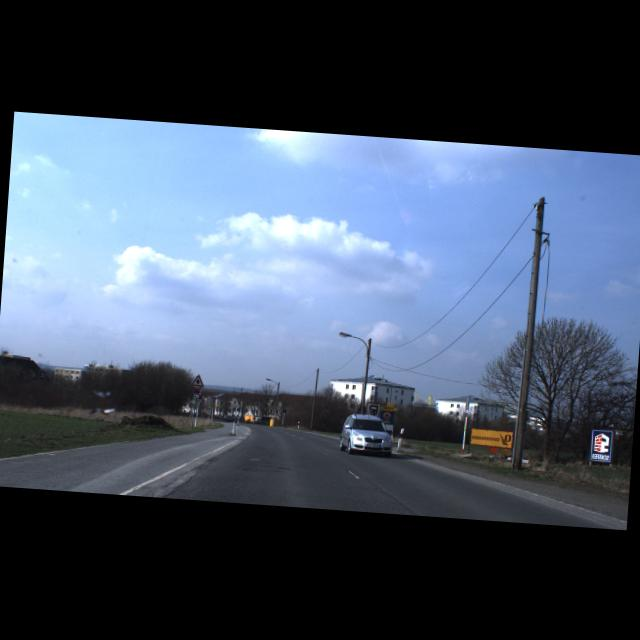danger: (190, 371, 205, 386)
